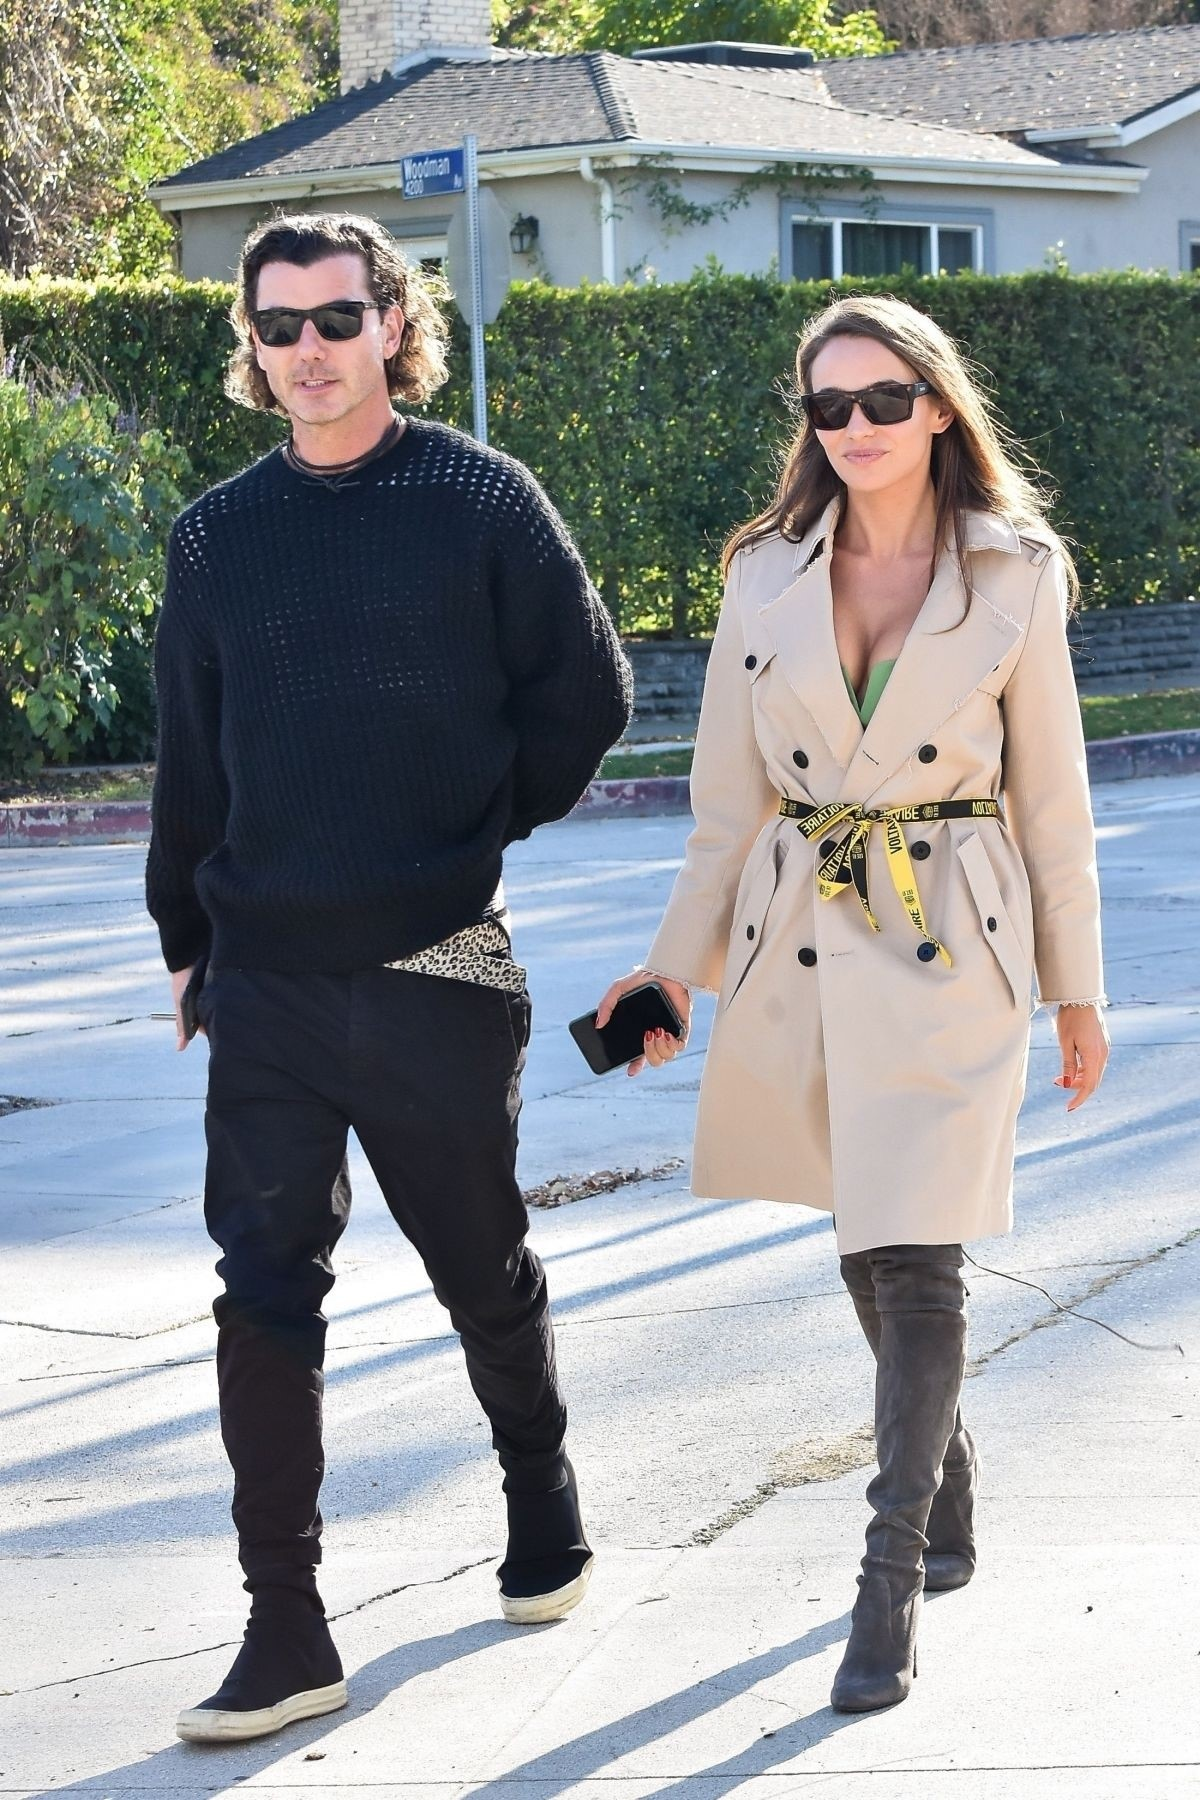face_no_mask: (241, 224, 394, 434), (800, 326, 938, 498)
